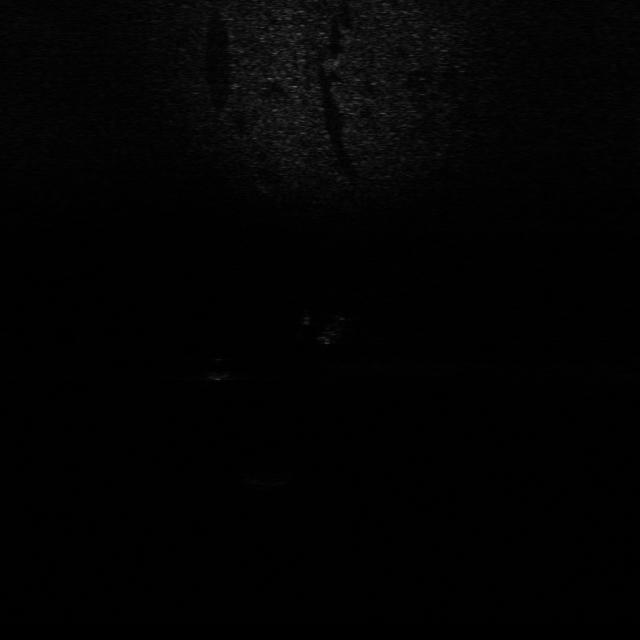ball: (201, 355, 238, 381)
circle cage: (237, 462, 298, 487)
human body: (290, 306, 356, 346)
